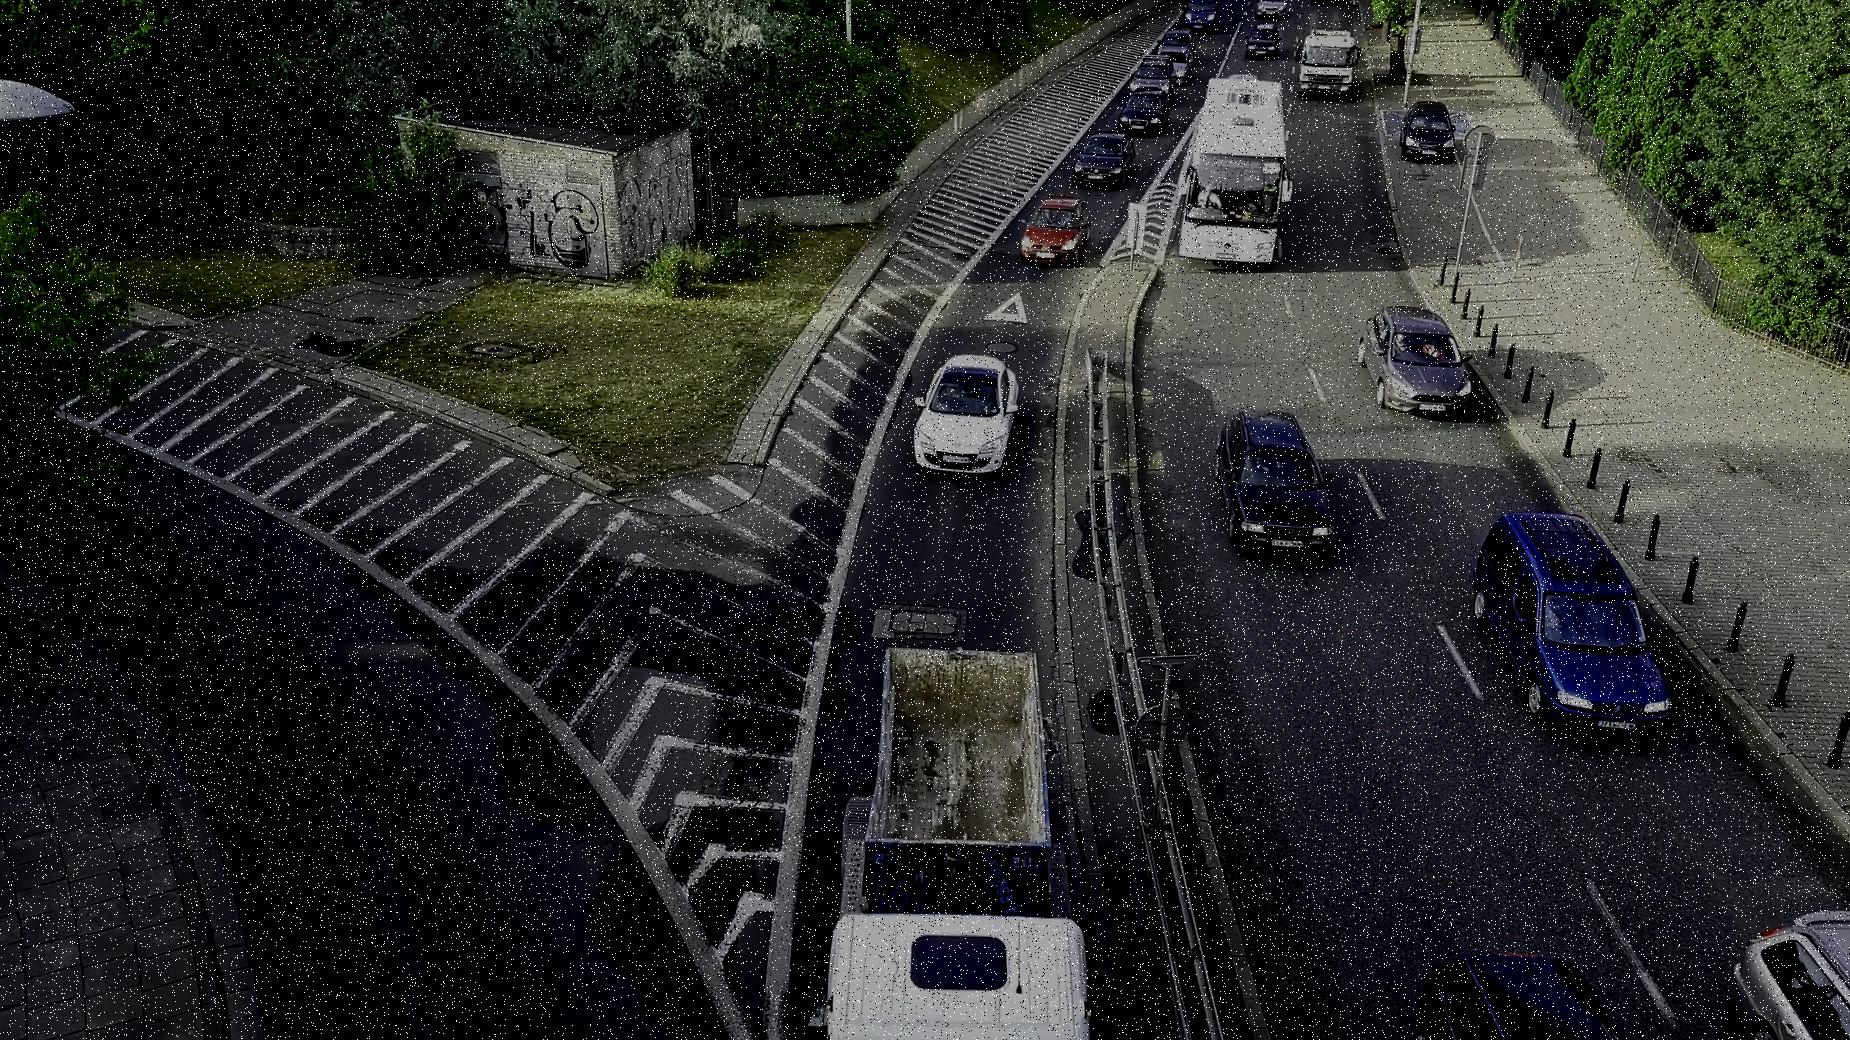bus: (1173, 71, 1293, 273)
car: (1474, 486, 1682, 744), (1408, 946, 1633, 1040), (1215, 399, 1340, 555), (1731, 893, 1850, 1037), (902, 347, 1023, 475), (1361, 309, 1473, 415), (1016, 193, 1093, 268), (1393, 91, 1464, 169), (1065, 123, 1141, 192), (1121, 83, 1170, 131), (1238, 13, 1278, 63)
truck: (849, 635, 1102, 1031), (1295, 29, 1361, 104)
